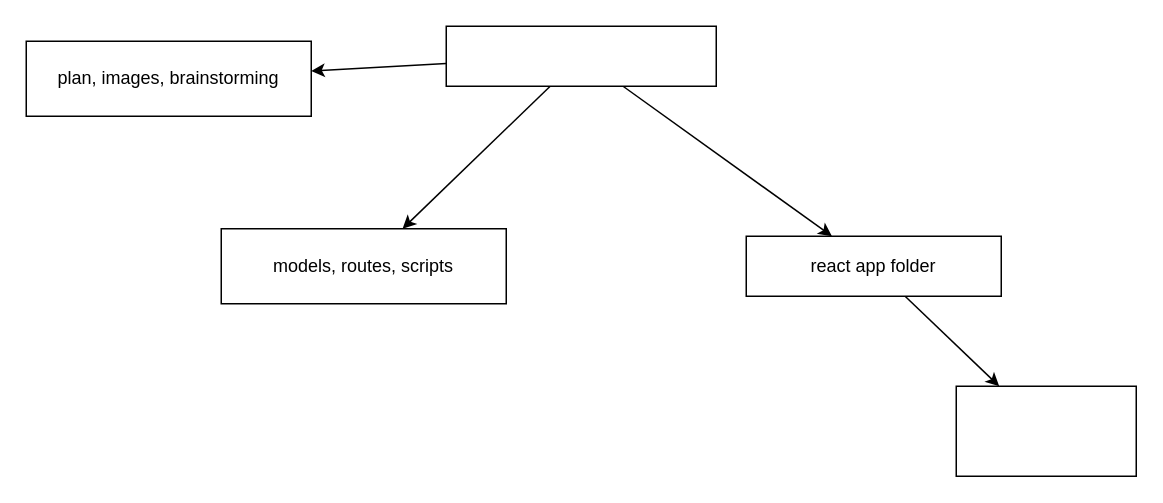
Image size: 1163x503. Some labels were removed from this diagram. The box of each missing label's shape, as (x1, y1, x2, y2) in pixels:
components etc: (955, 385, 1136, 476)
Main: (445, 25, 716, 86)
